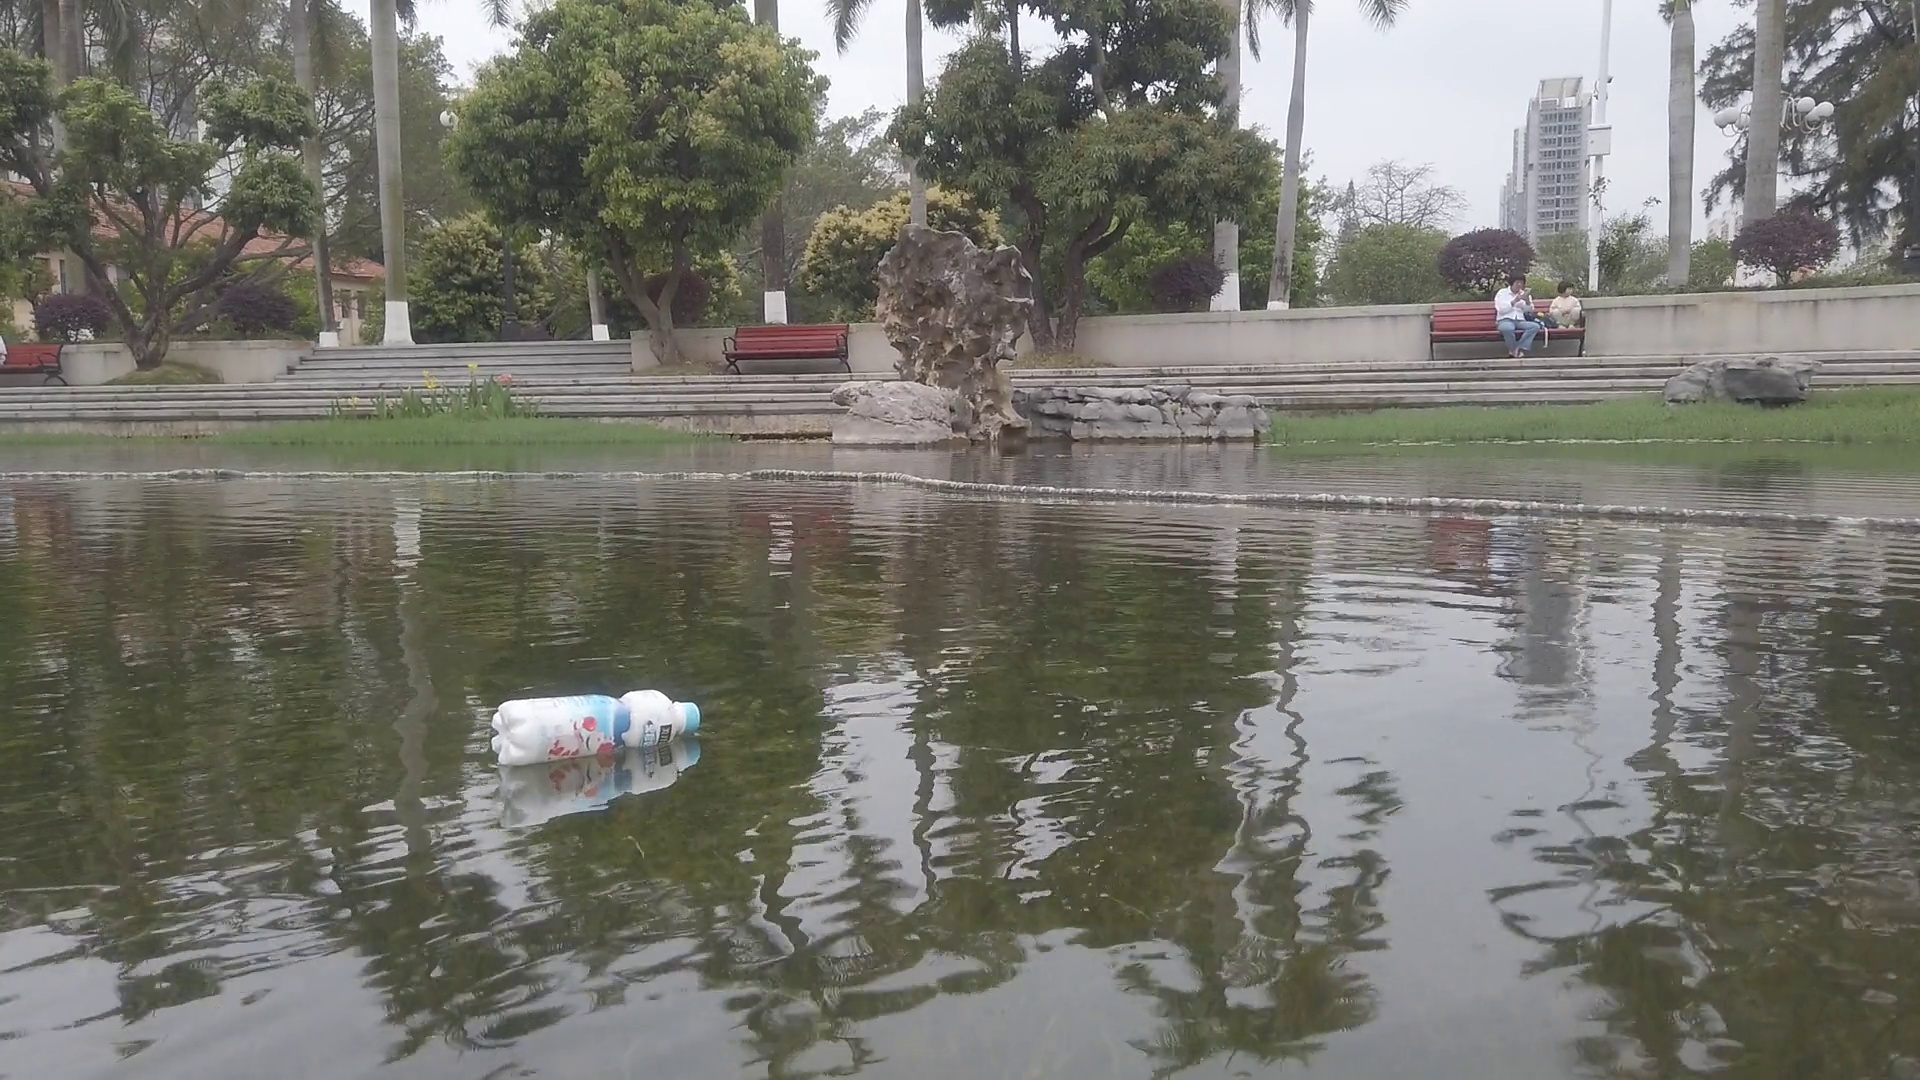bottle: (488, 688, 702, 762)
